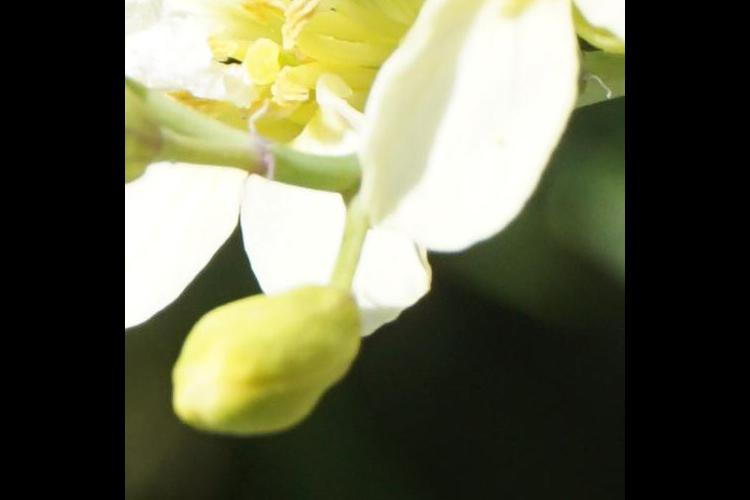bud: (183, 290, 364, 428)
white: (129, 1, 428, 313), (407, 1, 618, 260)
